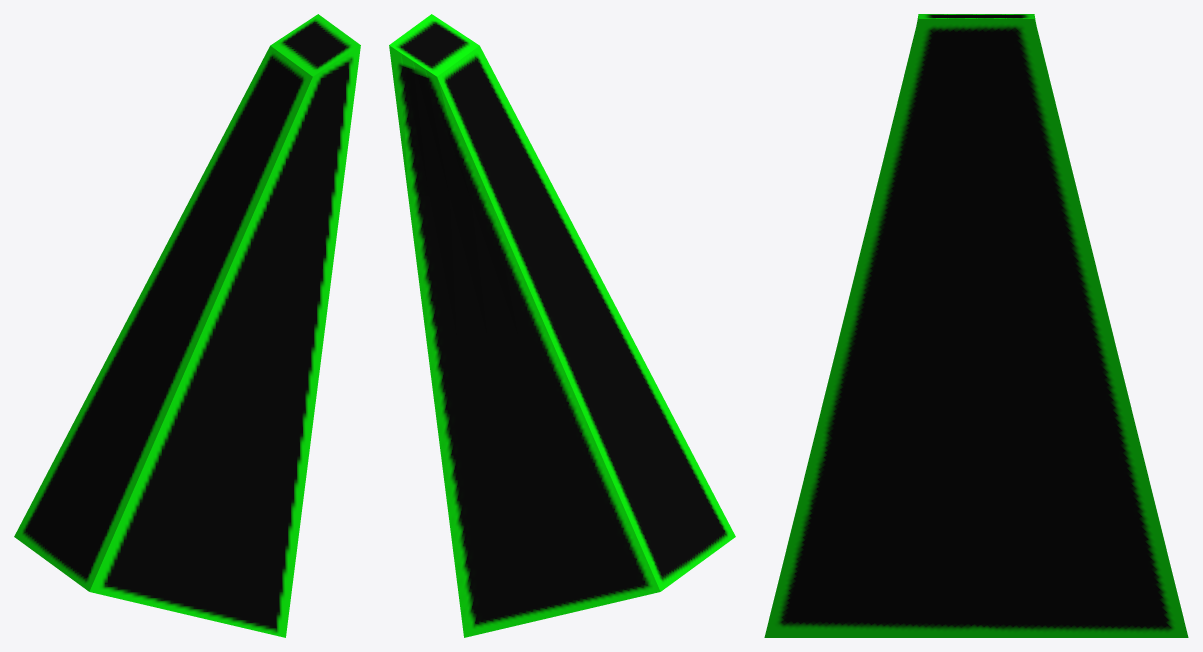
The model's file is float_R_arm.obj.
The picture shows the model from 3 angles, left to right: view 1: azimuth 30°, elevation 25°; view 2: azimuth 150°, elevation 25°; view 3: azimuth 270°, elevation 25°; orthographic projection. The views are drawn at different scales.
Visible parts, largest first — view 1: RightArm.001; view 2: RightArm.001; view 3: RightArm.001.
Part boxes in pixels (box(x1,y1,x2,y2)): RightArm.001: box(14, 14, 360, 637); RightArm.001: box(389, 14, 735, 637); RightArm.001: box(764, 14, 1188, 637).
Bounding box in the file's own units: 0.5983 × 1.03 × 0.5611.
1 material, 1 textured.
